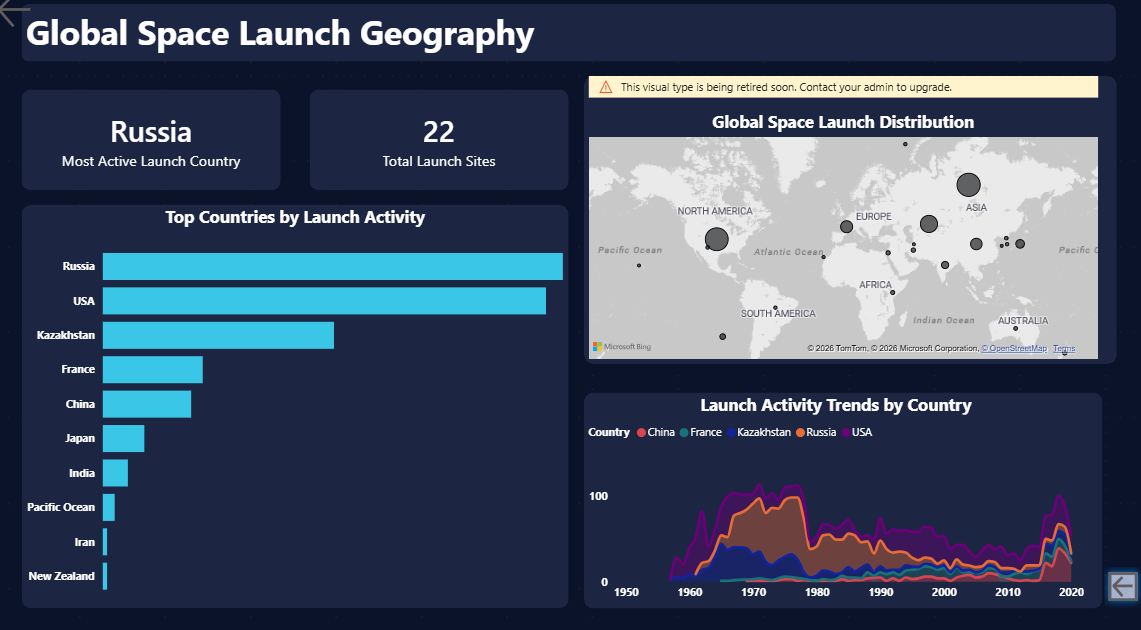

What the dashboard file says about the page in this screenshot:
{"tool":"powerbi","page":{"name":"Global Launch Geography","canvas":[1280,720],"ordinal":2},"visuals":[{"type":"shape","box":[32,16,1216,64],"z":0},{"type":"textbox","box":[32,16,1216,64],"z":1000},{"type":"shape","box":[32,112,288,112],"z":2000},{"type":"cardVisual","fields":{"Data":["Space_Corrected.Most Active Country"]},"box":[32,112,288,112],"z":3000},{"type":"shape","box":[352,112,288,112],"z":4000},{"type":"cardVisual","fields":{"Data":["Space_Corrected.Total Launch Sites"]},"box":[352,112,288,112],"z":5000},{"type":"shape","box":[656,96,592,320],"z":6000},{"type":"map","title":"Global Space Launch Distribution","fields":{"Category":["Space_Corrected.Country"],"Size":["Space_Corrected.TotalMissions"]},"box":[656,96,576,320],"z":7000},{"type":"shape","box":[32,240,608,448],"z":8000},{"type":"shape","box":[656,448,576,240],"z":9000},{"type":"stackedAreaChart","title":"Launch Activity Trends by Country","fields":{"Category":["Space_Corrected.Year"],"Series":["Space_Corrected.Country"],"Y":["Space_Corrected.TotalMissions"]},"box":[656,448,560,240],"z":10000},{"type":"barChart","title":"Top Countries by Launch Activity","fields":{"Category":["Space_Corrected.Country"],"Y":["Space_Corrected.TotalMissions"]},"box":[32,240,608,448],"z":11000},{"type":"actionButton","box":[1232,640,48,48],"z":15001}]}

Visuals, with their boxes in screenshot pixels (x1, y1, x2, y2), scaled from the page's 1280x720 canvas onto the 1141x630 screenshot:
shape: (left=29, top=14, right=1112, bottom=70)
textbox: (left=29, top=14, right=1112, bottom=70)
shape: (left=29, top=98, right=285, bottom=196)
cardVisual - Space_Corrected.Most Active Country: (left=29, top=98, right=285, bottom=196)
shape: (left=314, top=98, right=570, bottom=196)
cardVisual - Space_Corrected.Total Launch Sites: (left=314, top=98, right=570, bottom=196)
shape: (left=585, top=84, right=1112, bottom=364)
"Global Space Launch Distribution" map: (left=585, top=84, right=1098, bottom=364)
shape: (left=29, top=210, right=570, bottom=602)
shape: (left=585, top=392, right=1098, bottom=602)
"Launch Activity Trends by Country" stackedAreaChart: (left=585, top=392, right=1084, bottom=602)
"Top Countries by Launch Activity" barChart: (left=29, top=210, right=570, bottom=602)
actionButton: (left=1098, top=560, right=1140, bottom=602)
